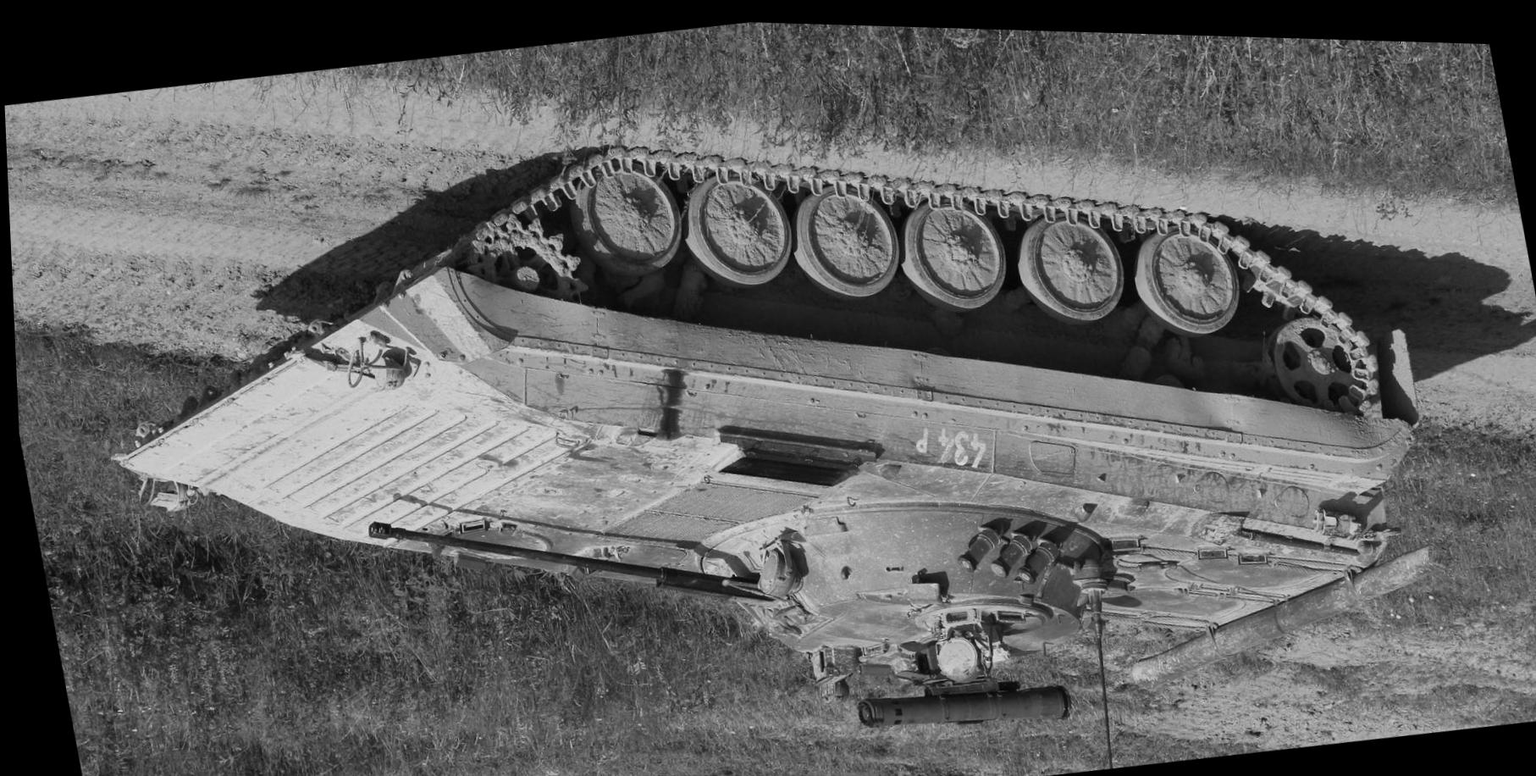tank: (102, 40, 1457, 776)
